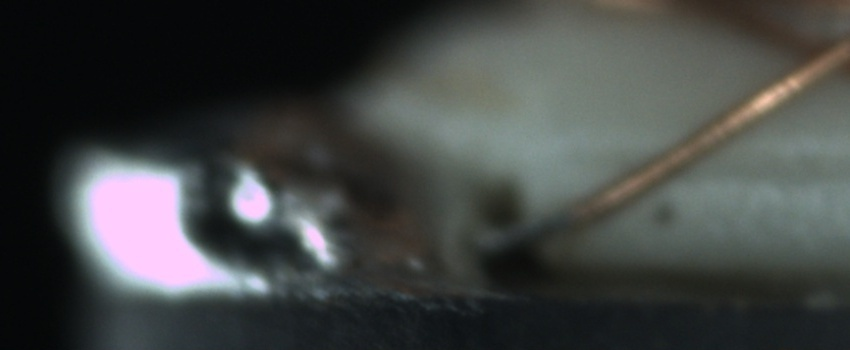CL: (774, 25, 849, 90)
DL: (633, 127, 848, 207)
TS: (479, 206, 579, 256)
